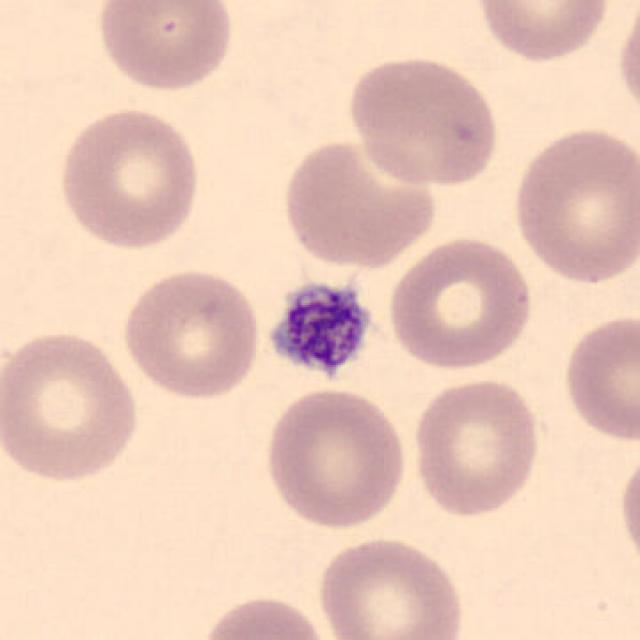Platelets: (263, 275, 377, 386)
RBC: (0, 324, 144, 486), (277, 134, 441, 272), (260, 382, 410, 532), (54, 102, 204, 252), (343, 51, 503, 191), (384, 233, 537, 374), (508, 122, 638, 287), (117, 264, 265, 402), (407, 374, 544, 522), (313, 532, 469, 640), (92, 0, 238, 95), (558, 310, 638, 446), (471, 0, 613, 65), (193, 590, 334, 640), (615, 444, 640, 573), (614, 2, 638, 128)
